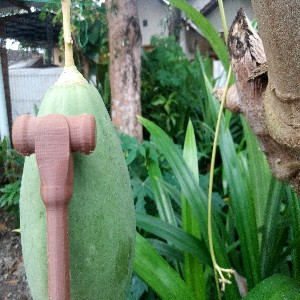palu: (11, 112, 96, 300)
